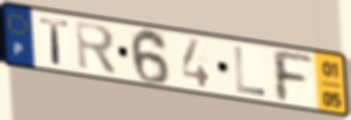4: (181, 36, 212, 91)
6: (128, 27, 172, 87)
F: (269, 47, 316, 106)
L: (232, 45, 268, 99)
R: (73, 18, 120, 78)
T: (38, 15, 72, 67)
